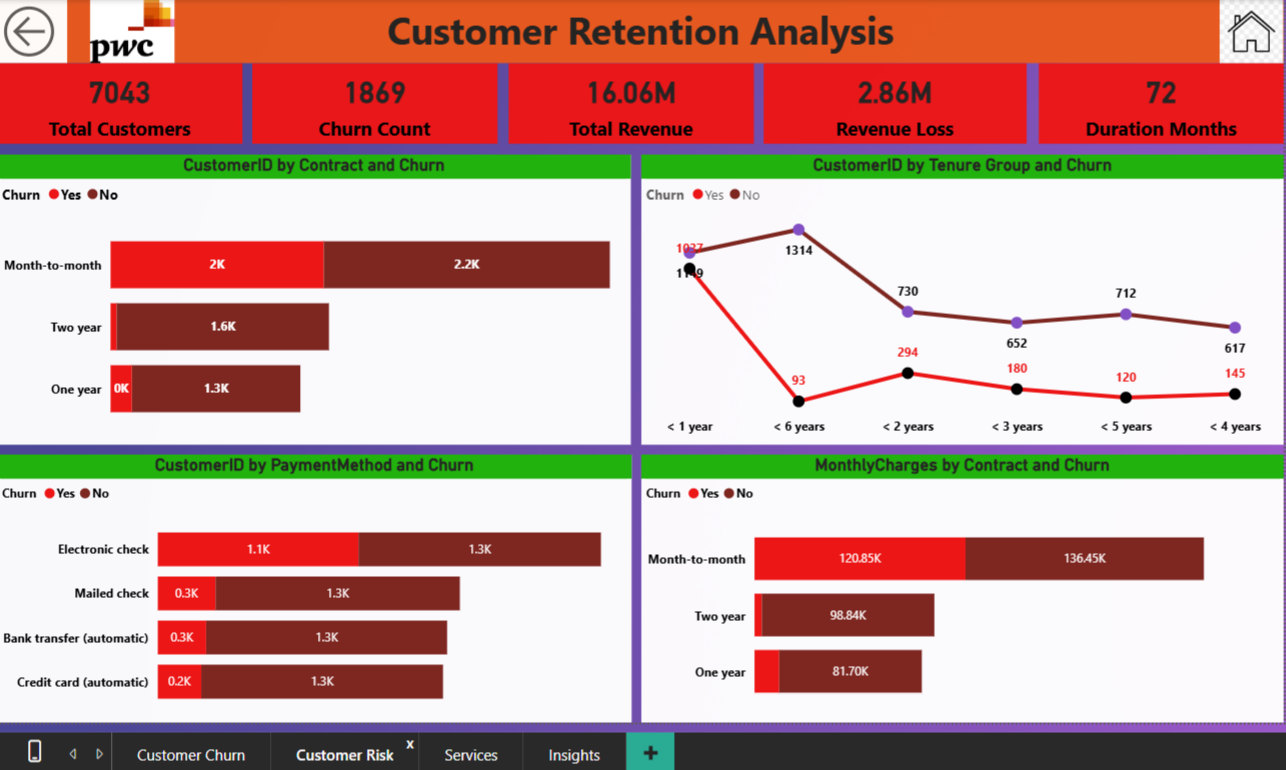

This screenshot's page, from the dashboard's own definition file:
{"tool":"powerbi","page":{"name":"Customer Risk","canvas":[1280,720],"ordinal":1},"visuals":[{"type":"textbox","box":[0,0,1280,63.4],"z":0},{"type":"image","box":[90.8,0,87.1,63.4],"z":1000},{"type":"actionButton","box":[0,0,69.7,63.4],"z":2000},{"type":"card","fields":{"Values":["Customer_Churn_Dataset.Total Customers"]},"box":[0,63.4,243.8,79.6],"z":3000},{"type":"card","fields":{"Values":["Customer_Churn_Dataset.Churn Count"]},"box":[253.8,63.4,243.8,79.6],"z":4000},{"type":"card","fields":{"Values":["Customer_Churn_Dataset.Total Revenue"]},"box":[508.8,63.4,243.8,79.6],"z":5000},{"type":"card","fields":{"Values":["Customer_Churn_Dataset.Revenue Loss"]},"box":[762.5,63.4,261.2,79.6],"z":6000},{"type":"card","fields":{"Values":["Customer_Churn_Dataset.Duration Months"]},"box":[1036.2,63.4,243.8,79.6],"z":7000},{"type":"barChart","title":"CustomerID by Contract and Churn","fields":{"Category":["Customer_Churn_Dataset.Contract"],"Series":["Customer_Churn_Dataset.Churn"],"Y":["CountNonNull(Customer_Churn_Dataset.customerID)"]},"box":[0,154.3,630.7,288.6],"z":8000},{"type":"lineChart","title":"CustomerID by Tenure Group and Churn","fields":{"Category":["Customer_Churn_Dataset.Tenure Group"],"Series":["Customer_Churn_Dataset.Churn"],"Y2":["CountNonNull(Customer_Churn_Dataset.customerID)"]},"box":[640.6,154.3,639.4,288.6],"z":9000},{"type":"barChart","title":"CustomerID by PaymentMethod and Churn","fields":{"Category":["Customer_Churn_Dataset.PaymentMethod"],"Y":["CountNonNull(Customer_Churn_Dataset.customerID)"],"Series":["Customer_Churn_Dataset.Churn"]},"box":[0,453,631,267],"z":10000},{"type":"barChart","title":"MonthlyCharges by Contract and Churn","fields":{"Series":["Customer_Churn_Dataset.Churn"],"Category":["Customer_Churn_Dataset.Contract"],"Y":["Sum(Customer_Churn_Dataset.MonthlyCharges)"]},"box":[641,453,639,267],"z":11000},{"type":"image","box":[1215.3,0,64.7,63.4],"z":12000}]}

Visuals, with their boxes on the page's 1280x720 design canvas (x1, y1, x2, y2). These are canvas units, not pixel positions in the 1286x770 screenshot, which may show the page scaled, cropped or inside an application window:
textbox: x1=0 y1=0 x2=1280 y2=63
image: x1=91 y1=0 x2=178 y2=63
actionButton: x1=0 y1=0 x2=70 y2=63
card - Customer_Churn_Dataset.Total Customers: x1=0 y1=63 x2=244 y2=143
card - Customer_Churn_Dataset.Churn Count: x1=254 y1=63 x2=498 y2=143
card - Customer_Churn_Dataset.Total Revenue: x1=509 y1=63 x2=753 y2=143
card - Customer_Churn_Dataset.Revenue Loss: x1=762 y1=63 x2=1024 y2=143
card - Customer_Churn_Dataset.Duration Months: x1=1036 y1=63 x2=1280 y2=143
"CustomerID by Contract and Churn" barChart: x1=0 y1=154 x2=631 y2=443
"CustomerID by Tenure Group and Churn" lineChart: x1=641 y1=154 x2=1280 y2=443
"CustomerID by PaymentMethod and Churn" barChart: x1=0 y1=453 x2=631 y2=720
"MonthlyCharges by Contract and Churn" barChart: x1=641 y1=453 x2=1280 y2=720
image: x1=1215 y1=0 x2=1280 y2=63
